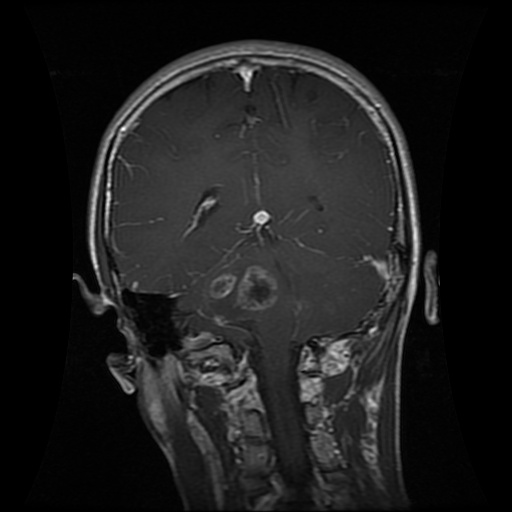glioma: (202, 260, 281, 312)
